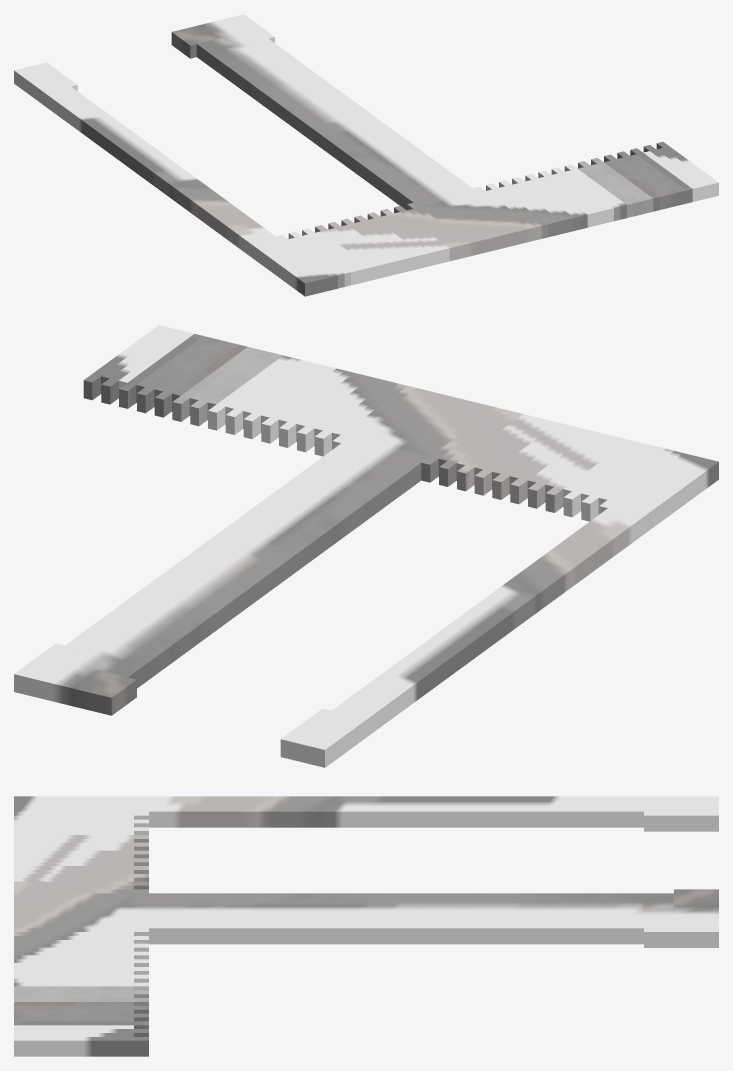
Rendered from rail.obj.
3 views of the same model, one above another, from view 1: azimuth 30°, elevation 25°; view 2: azimuth 150°, elevation 25°; view 3: azimuth 270°, elevation 25° (orthographic). The views are drawn at different scales.
Size of the model in its own units: 0.9844 by 0.03 by 1.2.
